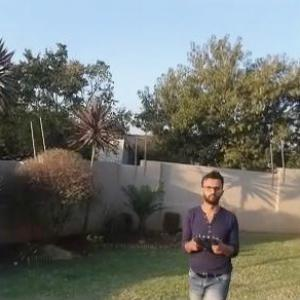follow: (174, 163, 242, 299)
